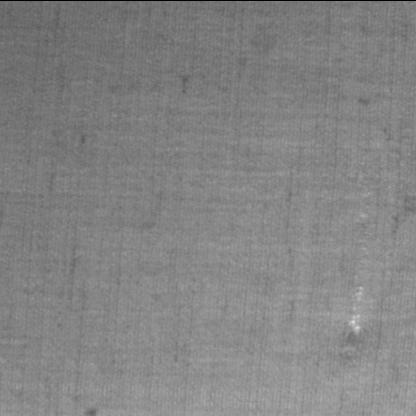thread error: (332, 170, 378, 367)
